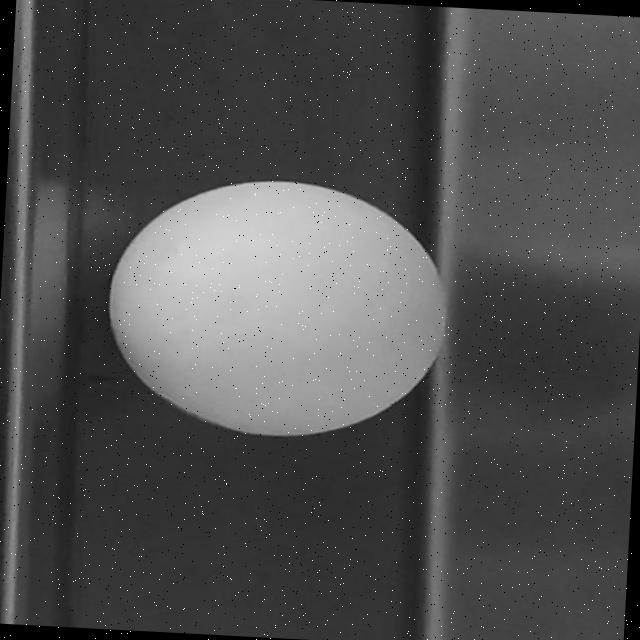ping-pong-ball: (103, 174, 453, 439)
